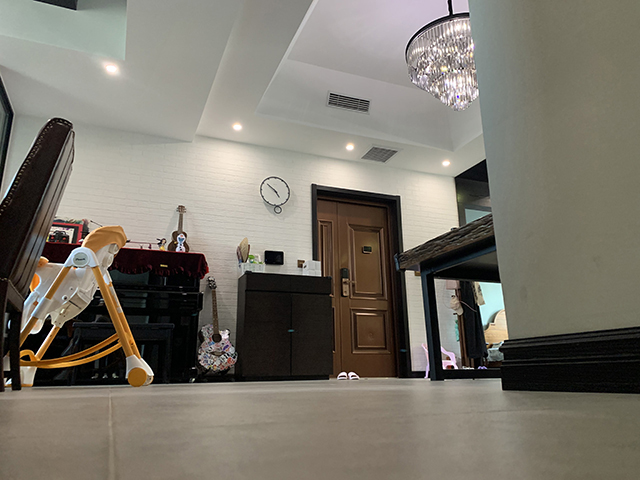cabinet: (235, 270, 334, 382)
slippers: (336, 370, 359, 380)
stool: (1, 115, 77, 392), (70, 320, 175, 386), (420, 340, 458, 379)
table: (393, 212, 506, 382)
